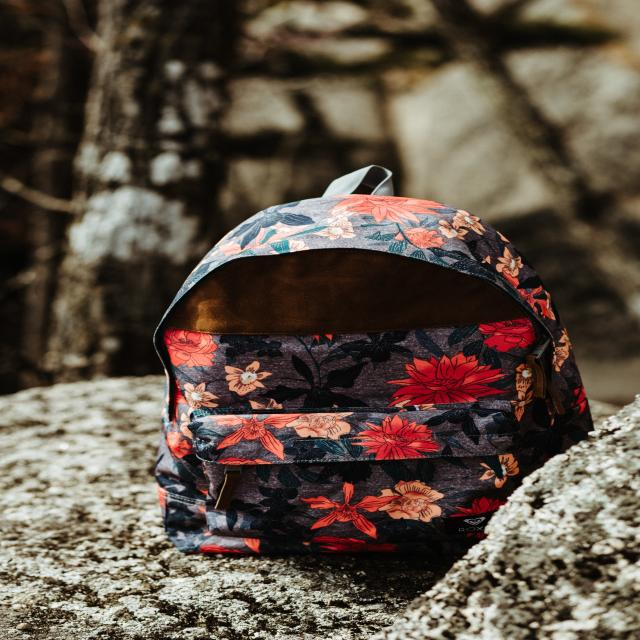backpack: (146, 160, 616, 558)
